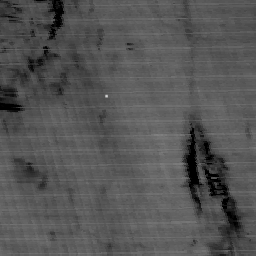Target: (102, 92, 109, 99)
